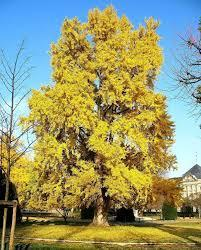tree: (24, 5, 176, 228)
